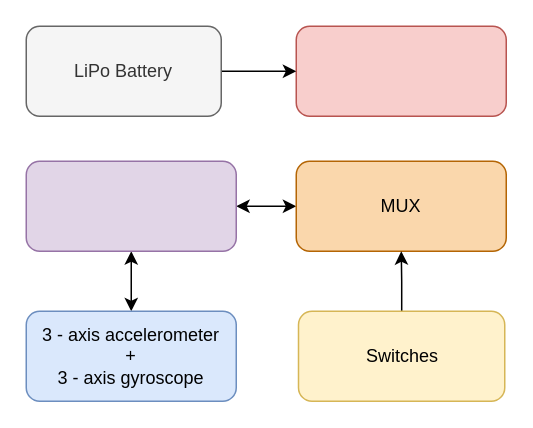
The diagram is 533 pixels wide and 428 high, and some of its shapes have lost their labels. The shapes that lost their labels are listed below. From the top down, each one's centre as x and y in pixels, then its label:
At (x=400, y=70): "Battery Management System".
At (x=130, y=205): "Wi-Fi + Bluetooth LE MCU module".
